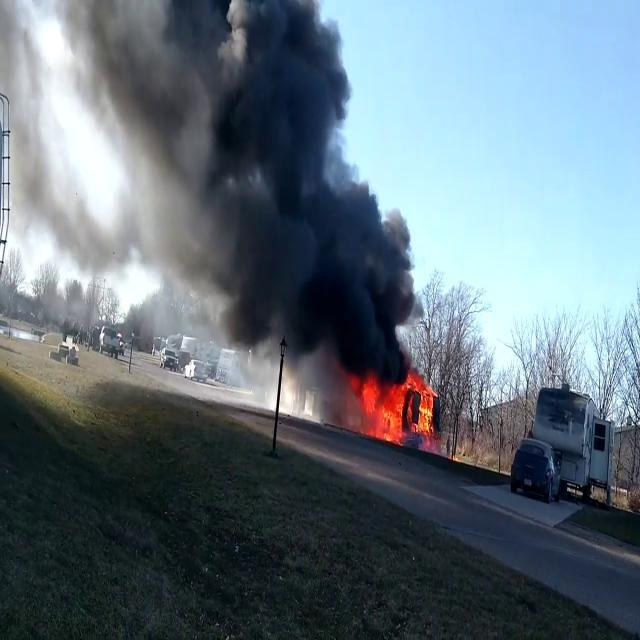Fire: (357, 370, 438, 444)
Smoke: (1, 1, 422, 363)
